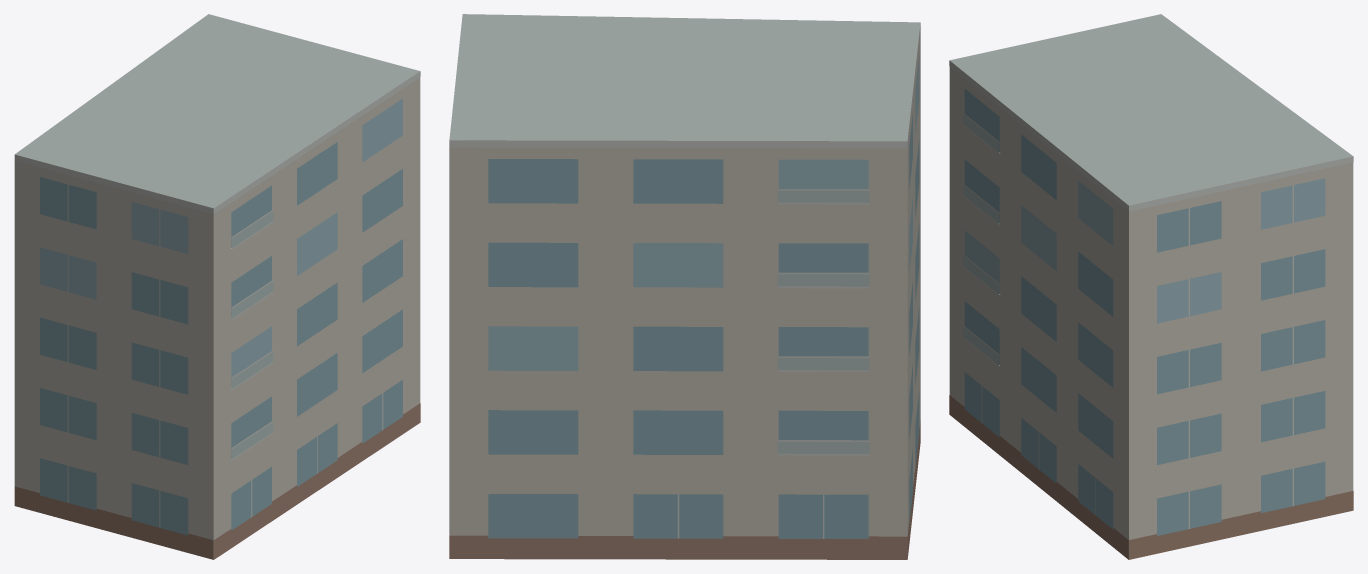
The model's file is survey-upis-32762732.glb.
3 renders of one model, left to right at view 1: azimuth 30°, elevation 25°; view 2: azimuth 150°, elevation 25°; view 3: azimuth 270°, elevation 25°, orthographic. The views are drawn at different scales.
Visible parts, largest first — view 1: survey-upis-32762732.tmp; view 2: survey-upis-32762732.tmp; view 3: survey-upis-32762732.tmp.
Part boxes in pixels (left/top/right/bottom): survey-upis-32762732.tmp: left=14, top=14, right=420, bottom=559; survey-upis-32762732.tmp: left=449, top=14, right=920, bottom=559; survey-upis-32762732.tmp: left=949, top=14, right=1353, bottom=559.
Bounding box in the file's own units: 16.72 × 14.4 × 14.89.
